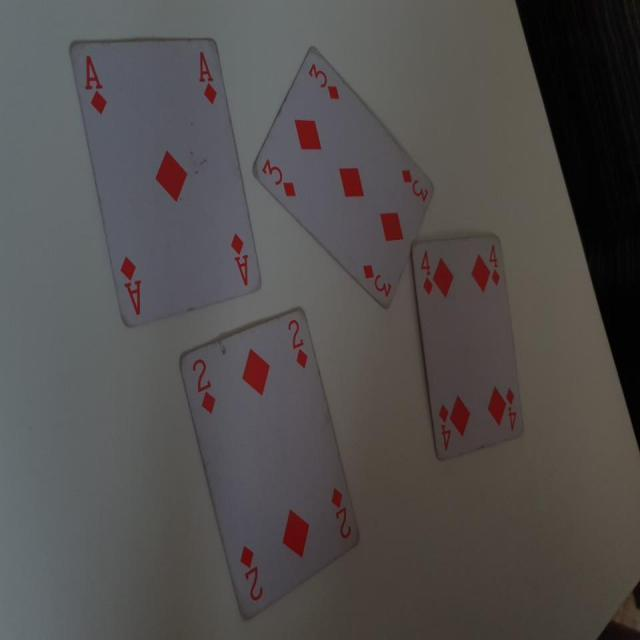2 of diamonds: (175, 298, 362, 625)
3 of diamonds: (256, 44, 436, 314)
4 of diamonds: (408, 233, 530, 461)
ace of diamonds: (64, 36, 265, 345)
